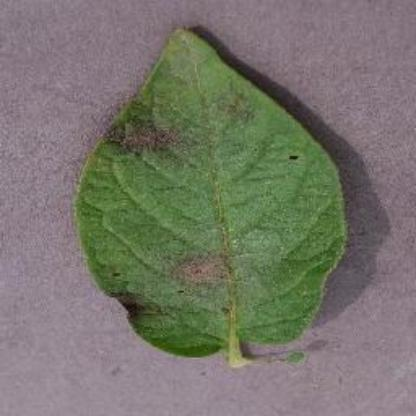Late-Blight: (66, 24, 350, 374)
